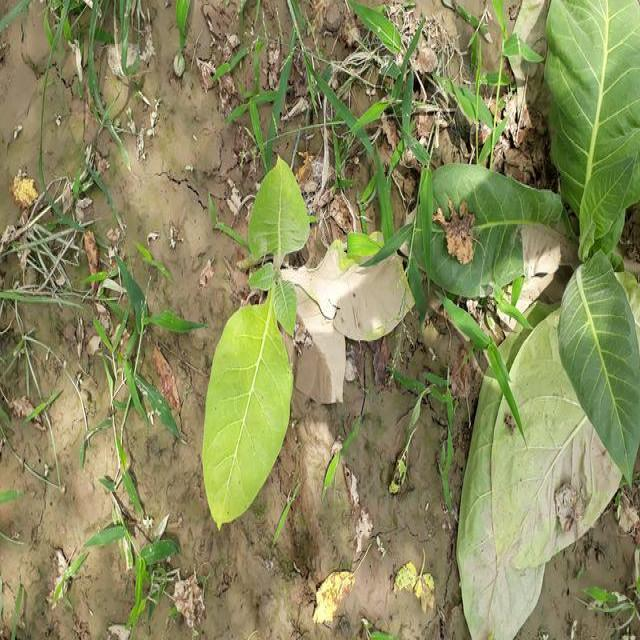crop: (405, 0, 640, 640), (200, 159, 303, 528)
